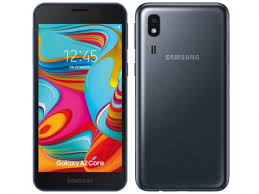samsung: (31, 1, 129, 194), (132, 1, 230, 194)
